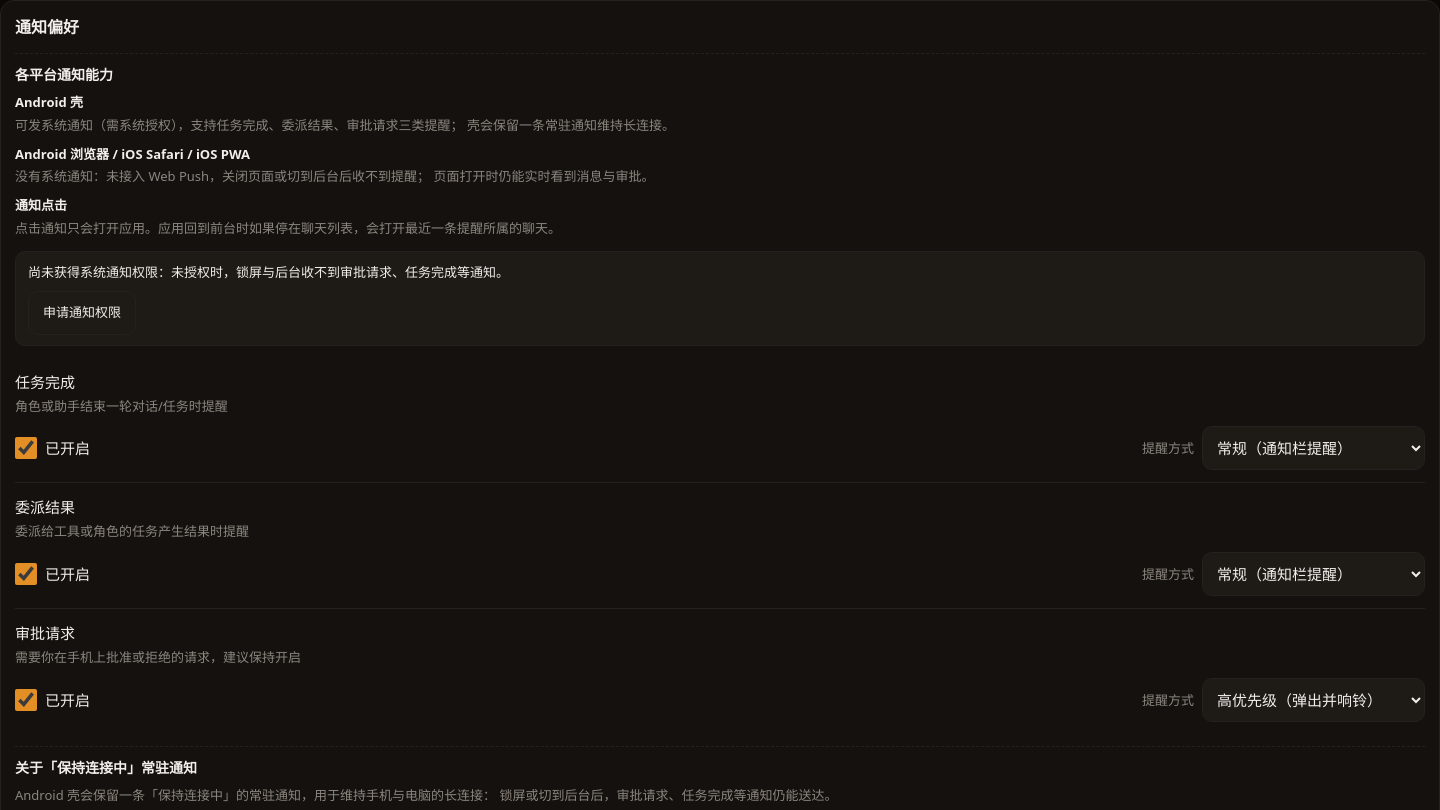
Test case: NotificationPreferences 组件 › 申请权限获准后显示已授权
Step 1. Click the button with test id "btn-request-permission" → click(82, 313), box [28,291,136,335]
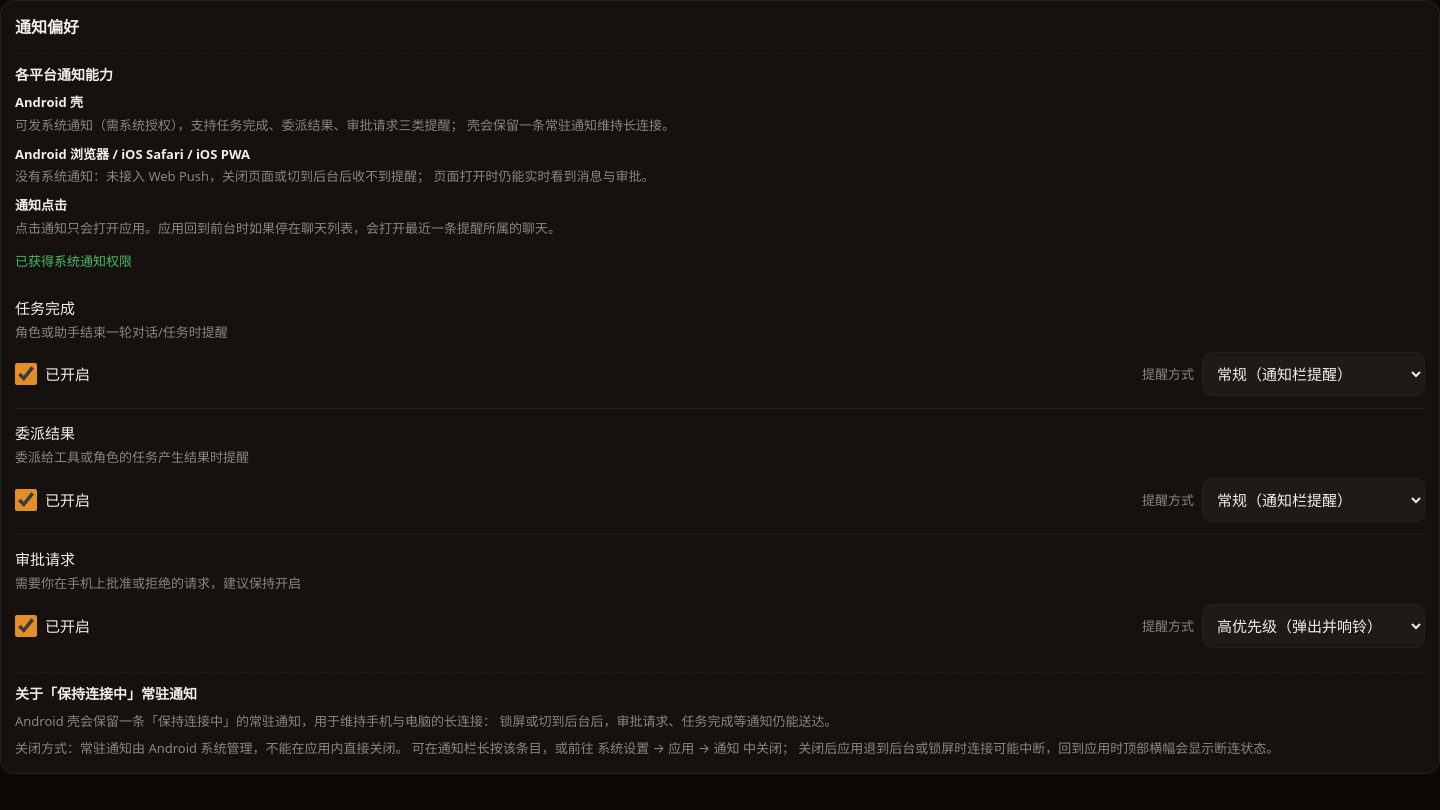
Now the text "已获得系统通知权限" is shown, box [15,252,132,270]
